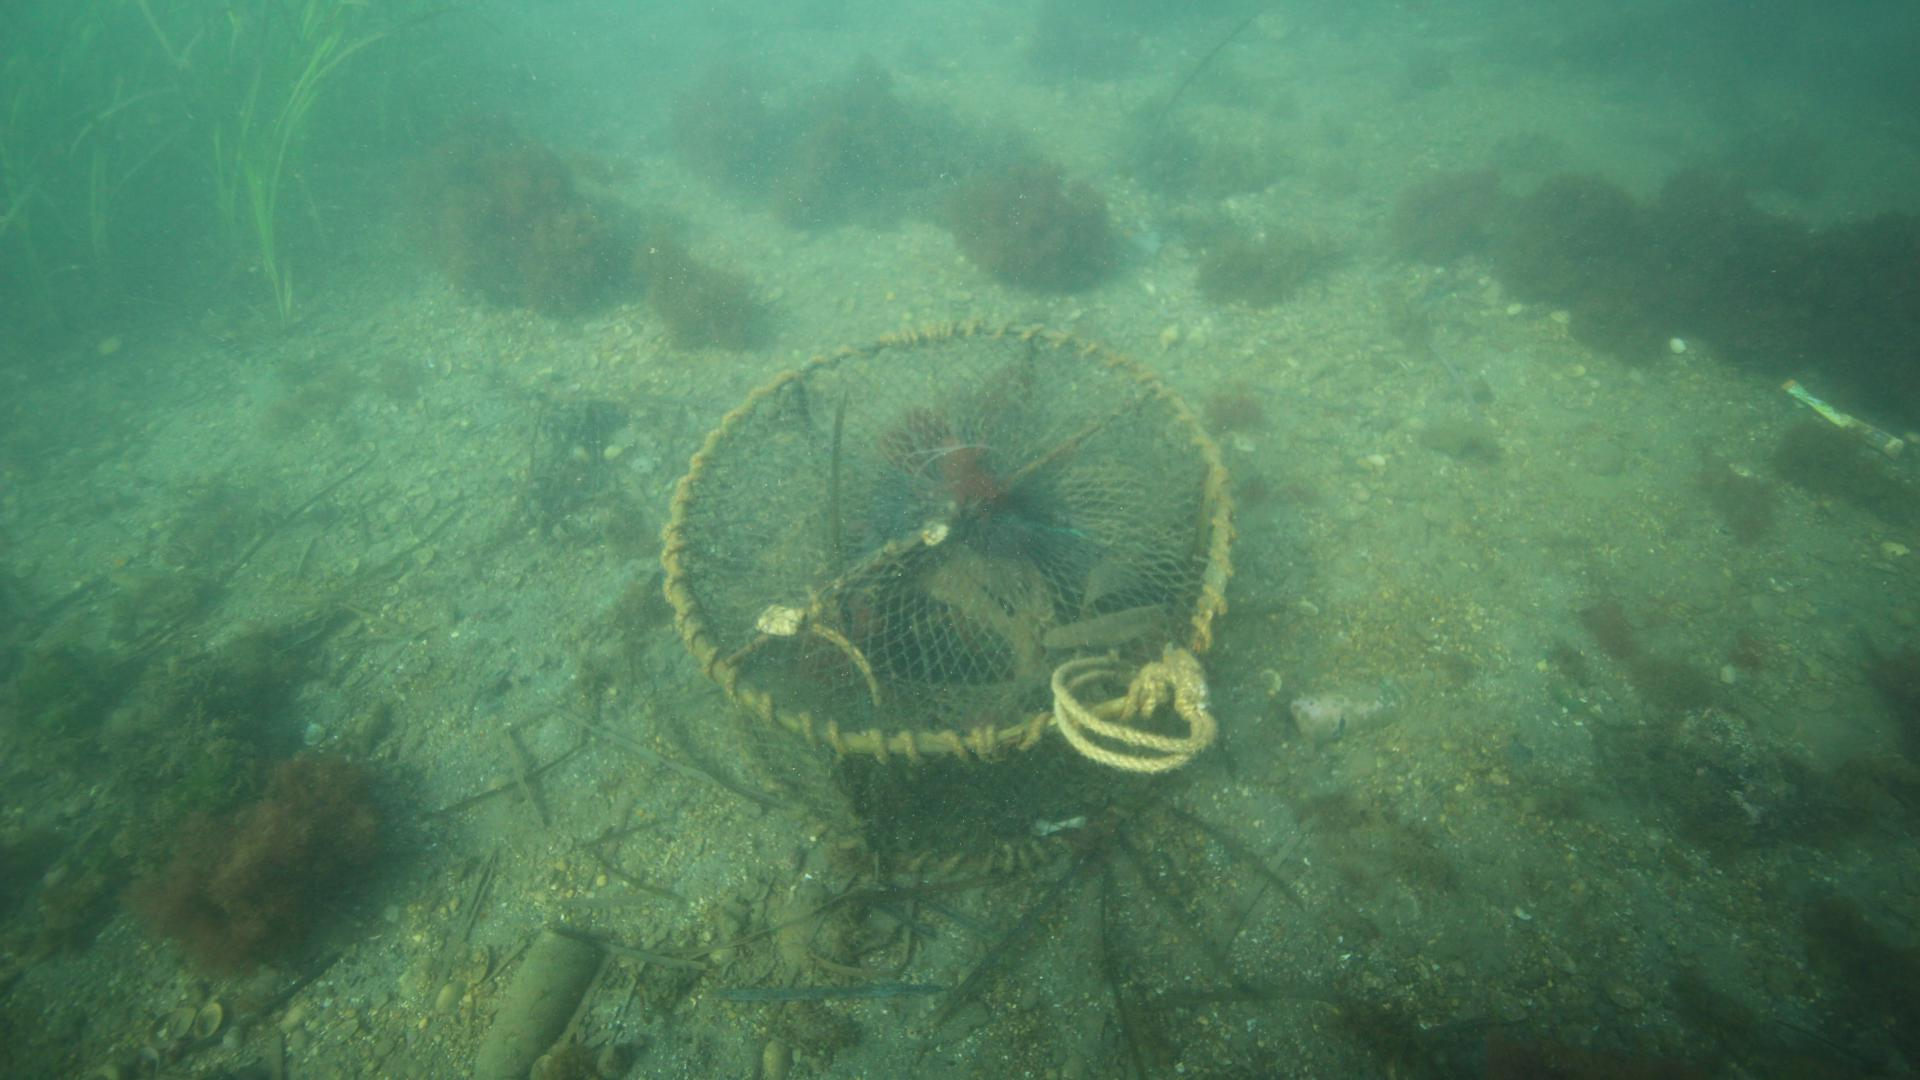circular fish trap: (655, 316, 1236, 873)
rope: (1036, 646, 1228, 786)
